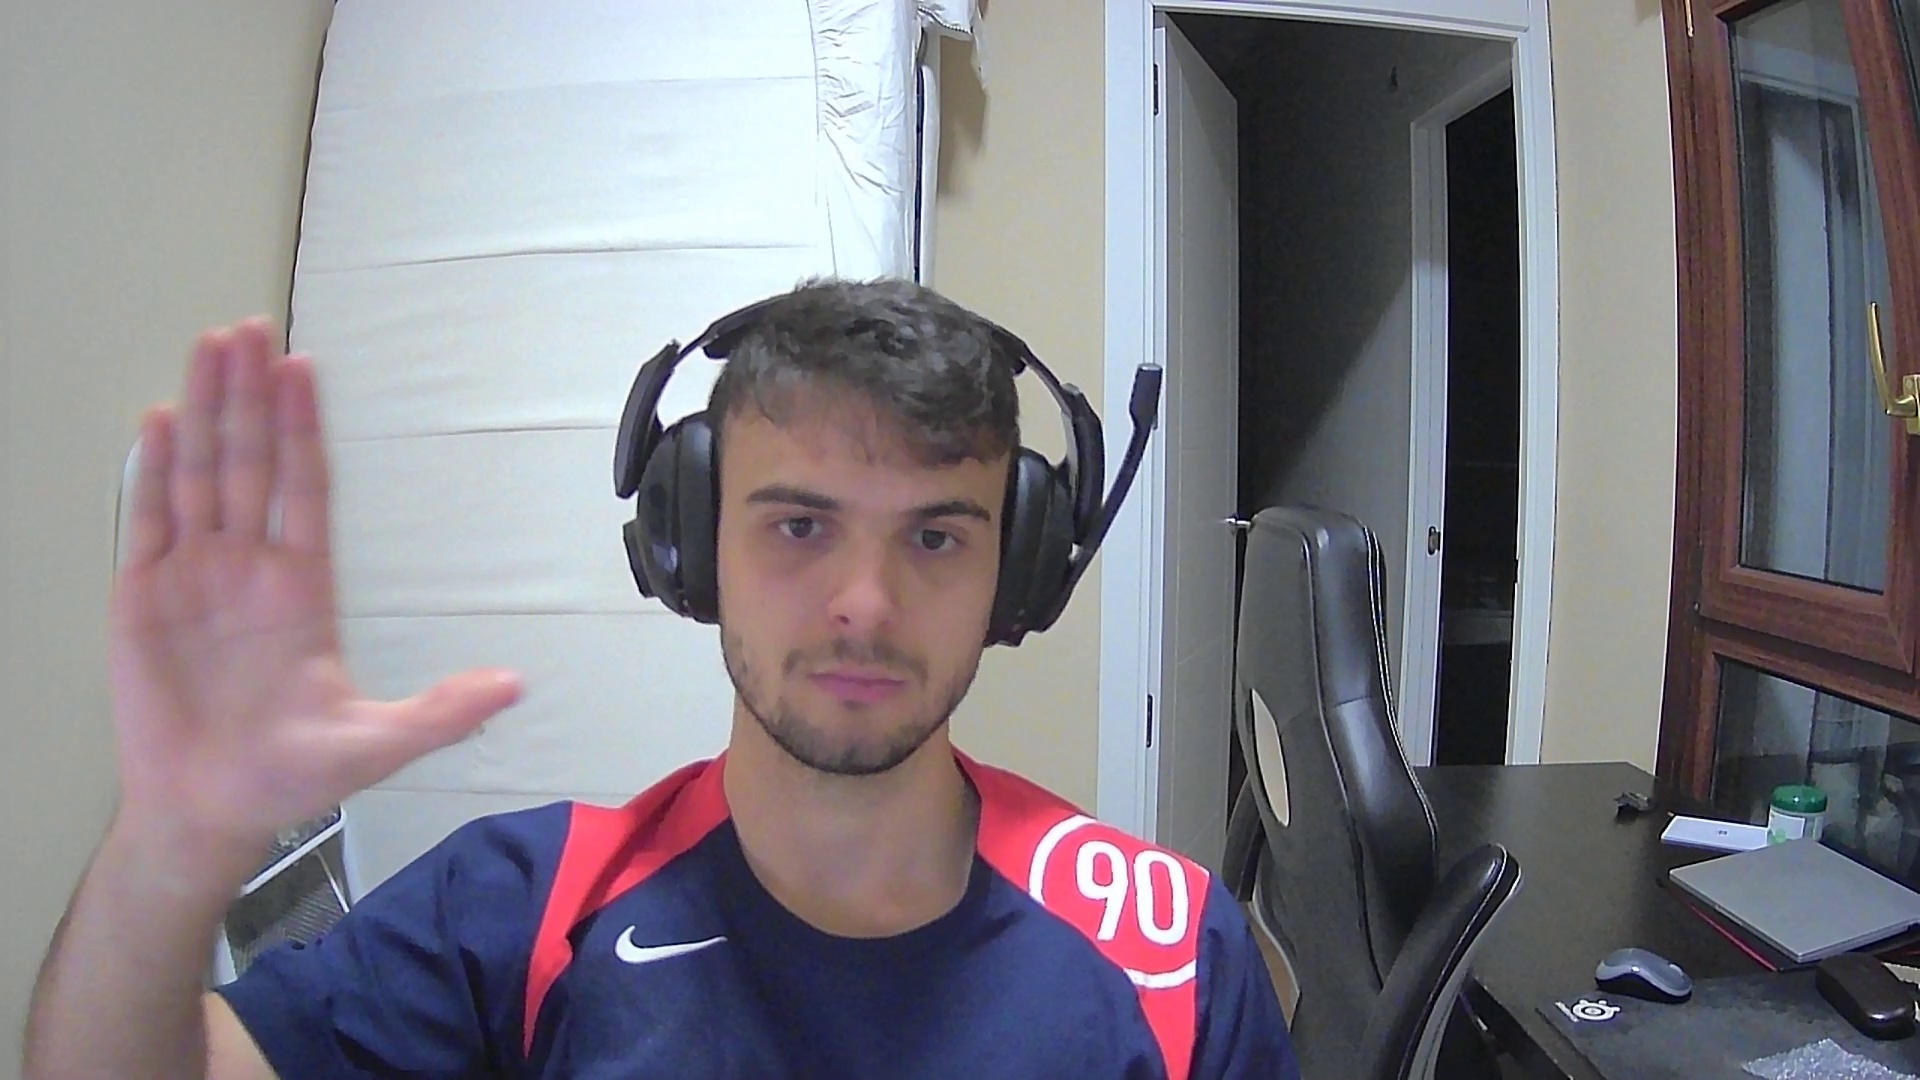Palm: (98, 315, 525, 819)
